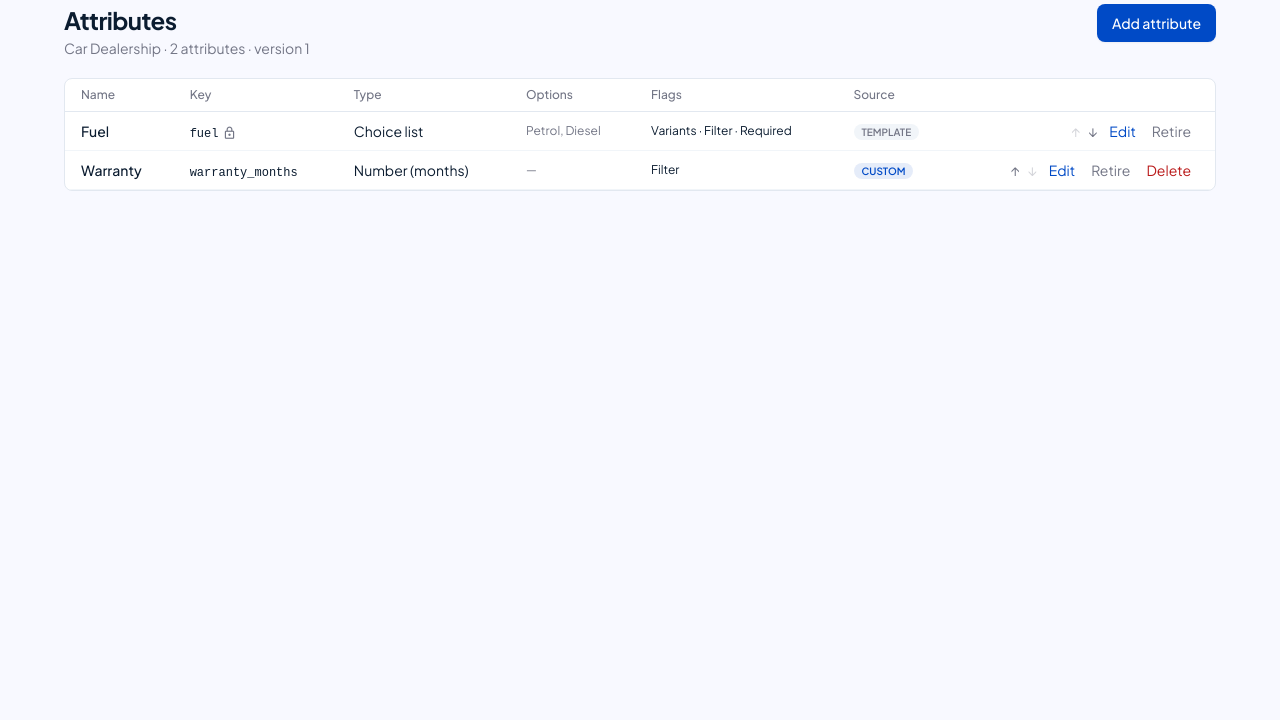
AttributesPage › locks the type of a template attribute when editing
Step 1. Click the button with aria-label "Edit Fuel" → (1123, 131), box [1101, 121, 1144, 141]
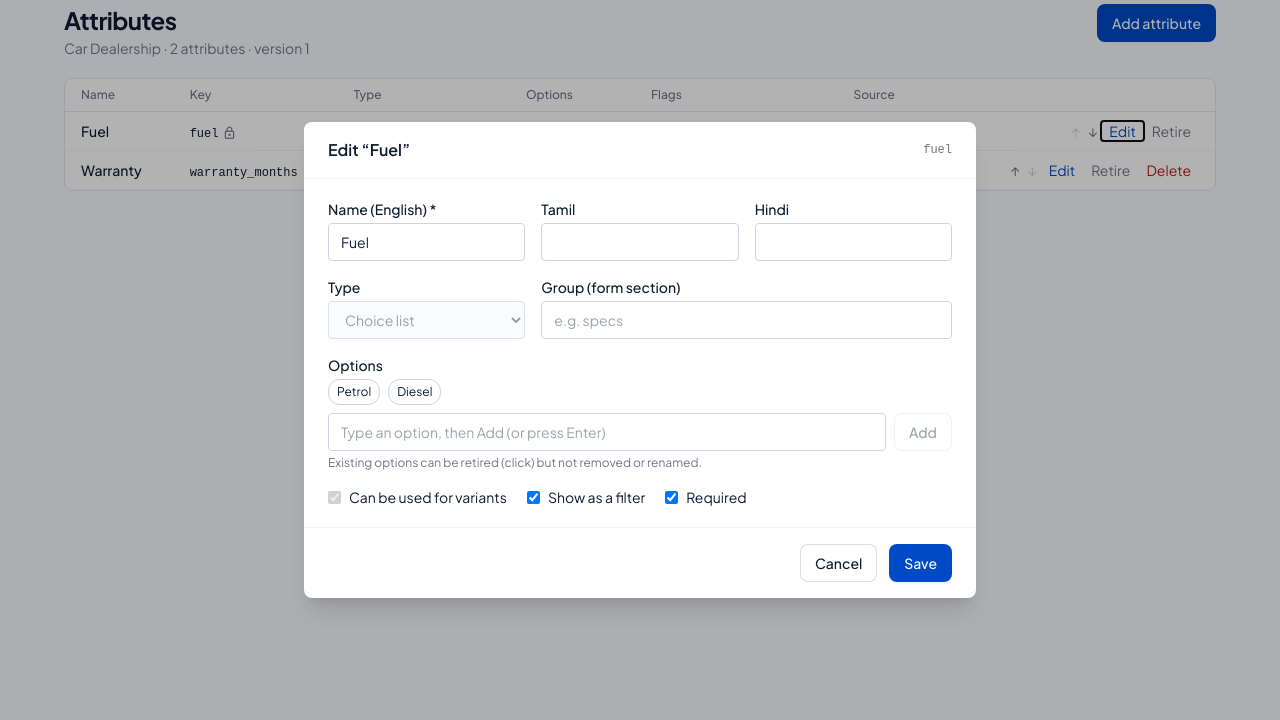
expect the dropdown labelled "Type" is disabled: met, box [328, 301, 525, 339]
